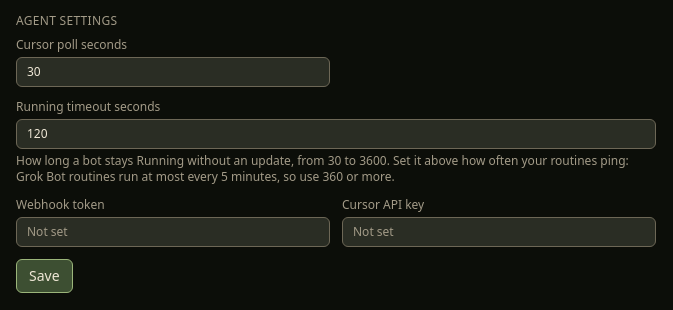
Test: ConfigSection running timeout › saves a new timeout as a number
Replace the text in the field labelled "Running timeout seconds" with "600" at (336, 134), box [16,119,656,149]
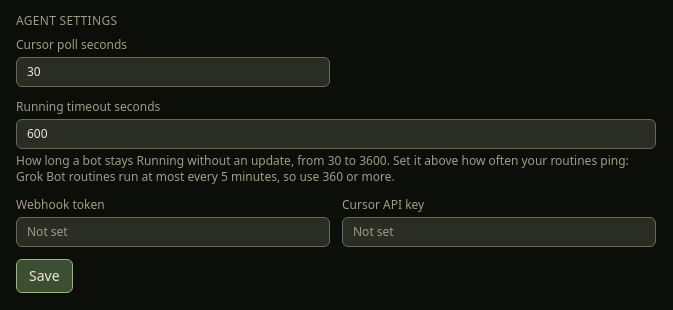
Click the button "Save" at (44, 276), box [16,259,73,293]
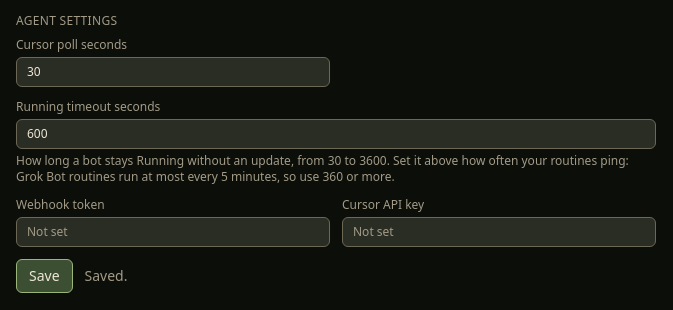
expect the text "Saved." is shown: met, box [85,266,128,286]
